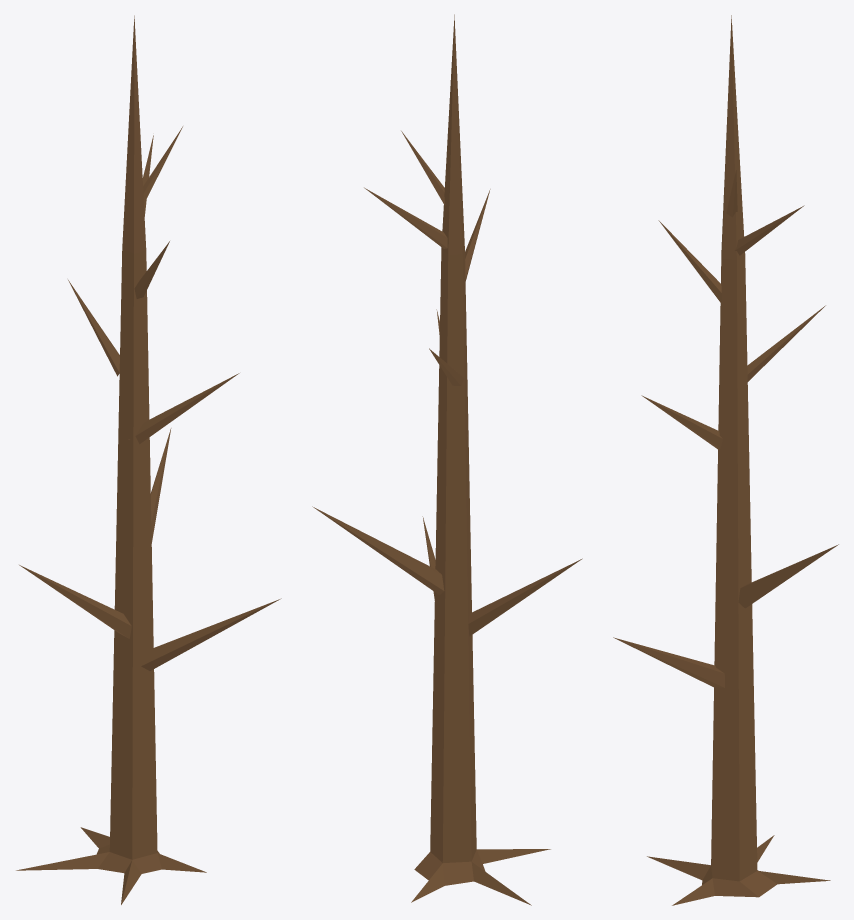
The model's file is tree-dead.glb.
3 views of the same model, side by side, from view 1: azimuth 30°, elevation 25°; view 2: azimuth 150°, elevation 25°; view 3: azimuth 270°, elevation 25° (orthographic). The views are drawn at different scales.
Parts seen in each view (by area): view 1: tree-dead; view 2: tree-dead; view 3: tree-dead.
Part boxes in pixels (x1,y1,x2,y2): tree-dead: (16, 15, 281, 904); tree-dead: (312, 14, 582, 905); tree-dead: (613, 15, 838, 905).
Size of the model in its own units: 2.07 by 7.88 by 1.87.
1 material, 1 textured.
